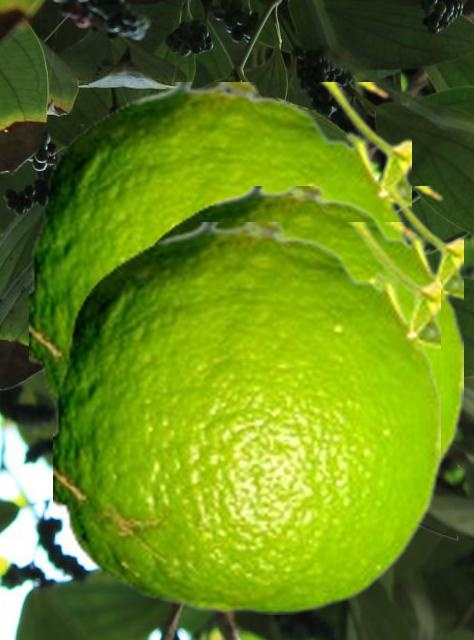dalandan: (53, 222, 439, 613), (29, 82, 410, 410), (147, 186, 462, 474)
